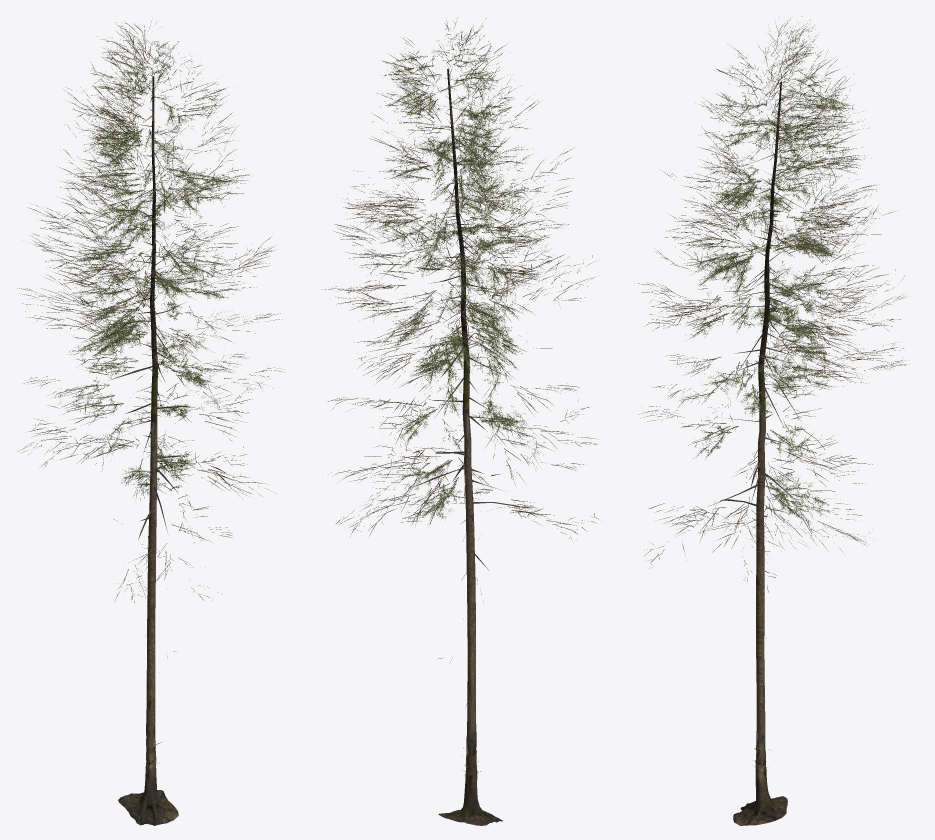
The model's file is fir-tree-01-a.glb.
The picture shows the model from 3 angles, left to right: view 1: azimuth 30°, elevation 25°; view 2: azimuth 150°, elevation 25°; view 3: azimuth 270°, elevation 25°; orthographic projection. The views are drawn at different scales.
Parts seen in each view (by area): view 1: fir_tree_01_a_LOD0; view 2: fir_tree_01_a_LOD0; view 3: fir_tree_01_a_LOD0.
Boxes of the visible parts, x1=… form: fir_tree_01_a_LOD0: x1=17, y1=21, x2=285, y2=825; fir_tree_01_a_LOD0: x1=321, y1=18, x2=603, y2=825; fir_tree_01_a_LOD0: x1=634, y1=16, x2=909, y2=825.
Bounding box in the file's own units: 6.4 × 18.87 × 6.15.
4 materials, 4 textured.
